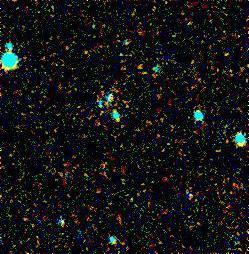star: (104, 108, 134, 138)
